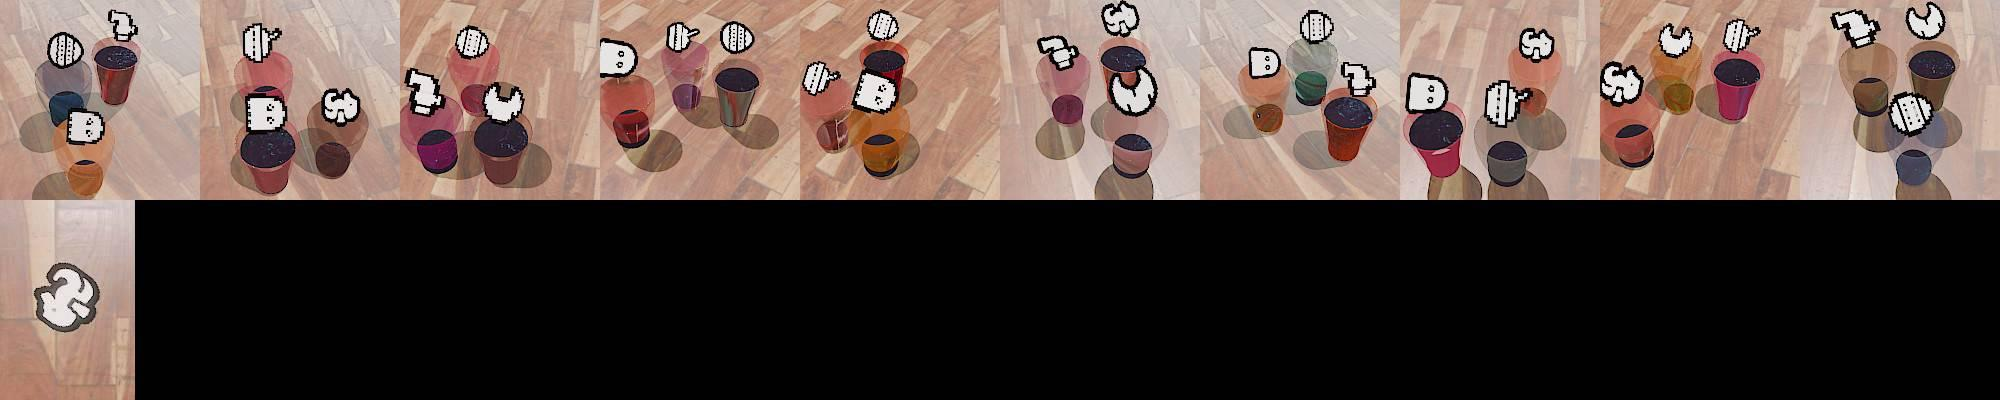icon: (31, 262, 101, 333), (1108, 66, 1157, 116), (1482, 77, 1530, 128), (405, 67, 448, 117), (243, 87, 290, 132), (1830, 9, 1881, 49), (1888, 91, 1934, 135), (852, 71, 899, 114), (1600, 60, 1645, 104), (482, 81, 526, 124), (1407, 71, 1451, 113), (242, 22, 283, 63), (598, 37, 638, 79), (1657, 20, 1696, 62), (321, 86, 361, 126), (1905, 2, 1946, 40), (1720, 17, 1762, 54), (1038, 34, 1079, 71), (800, 60, 841, 96), (66, 108, 105, 145), (1102, 1, 1141, 37), (1339, 59, 1376, 96), (1518, 26, 1556, 62), (1298, 8, 1335, 44), (48, 32, 85, 68), (665, 20, 701, 54), (719, 21, 755, 55), (454, 25, 489, 59), (1248, 46, 1281, 80), (866, 10, 900, 42), (107, 9, 138, 42)
